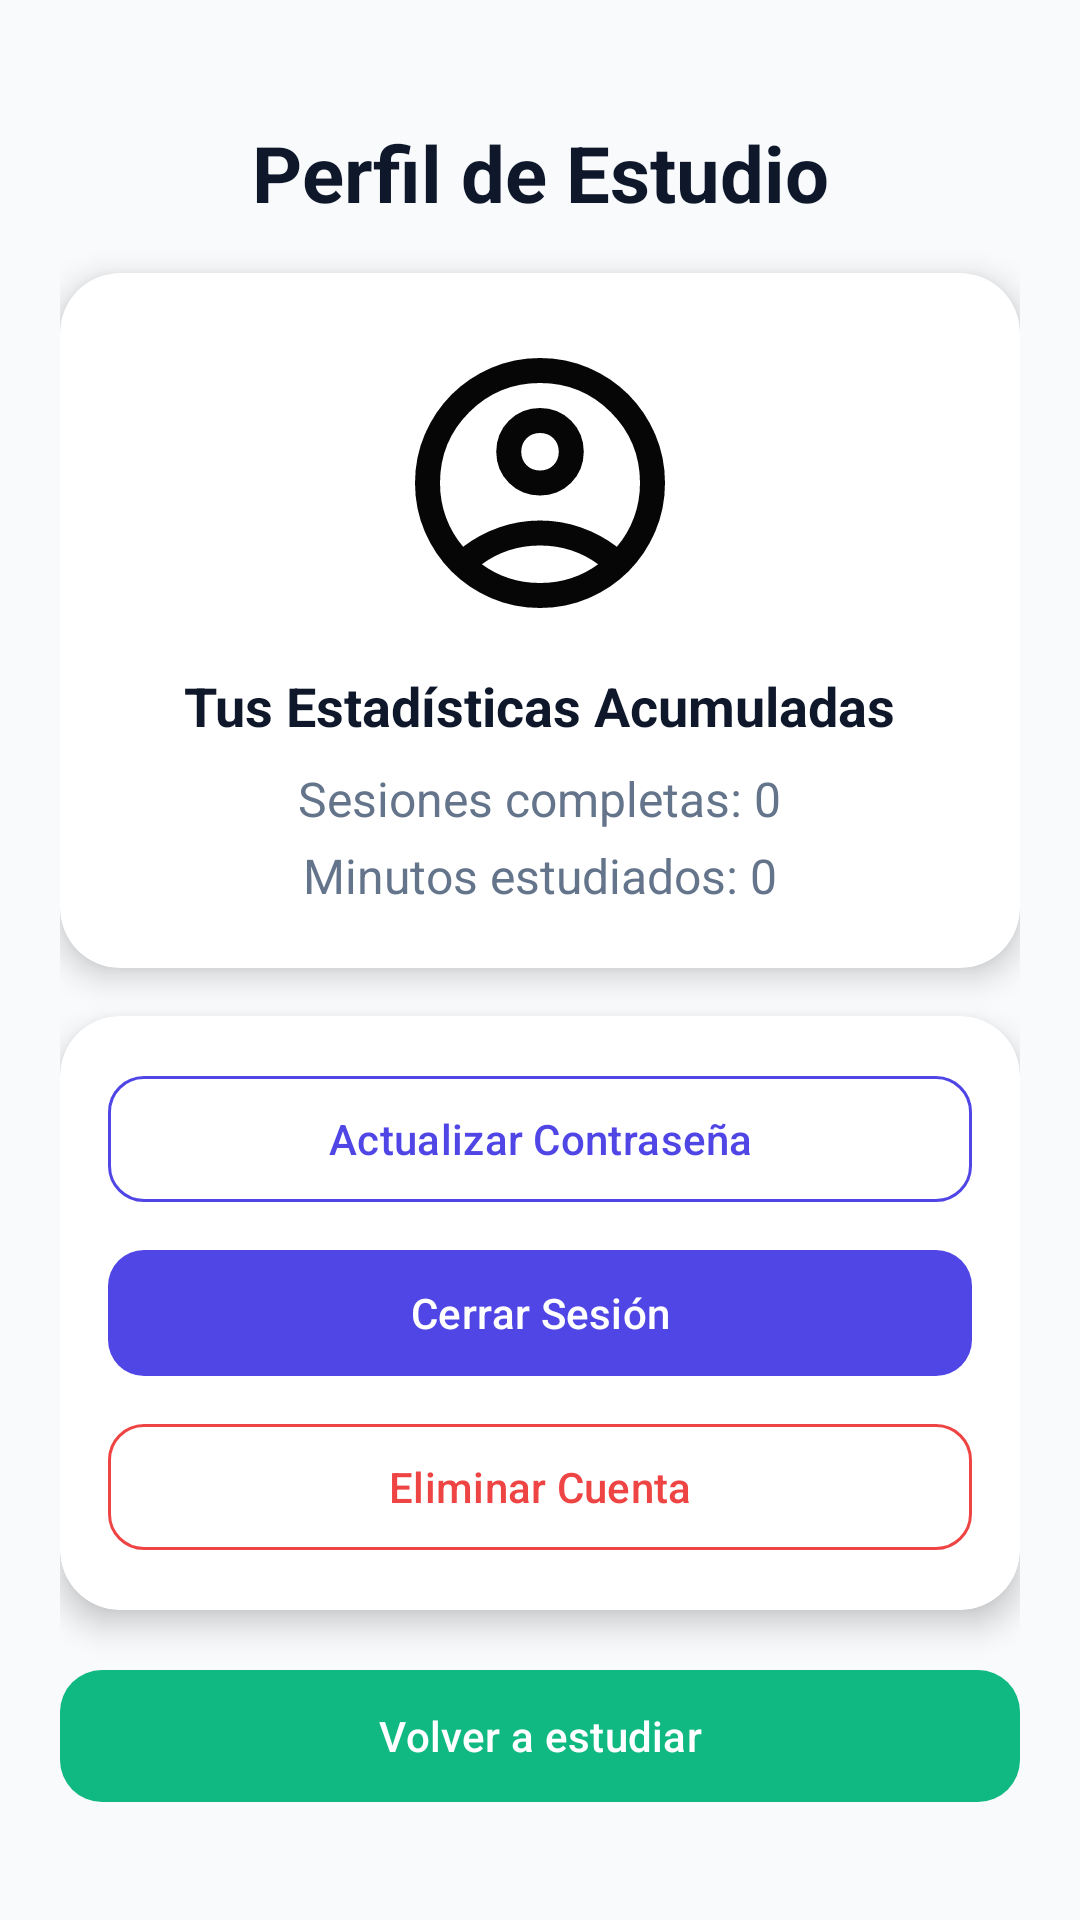

Where to tap for icons on this 1080px x 1920px app screen, as (x=x, y=y):
perfil usuario: (x=540, y=483)
